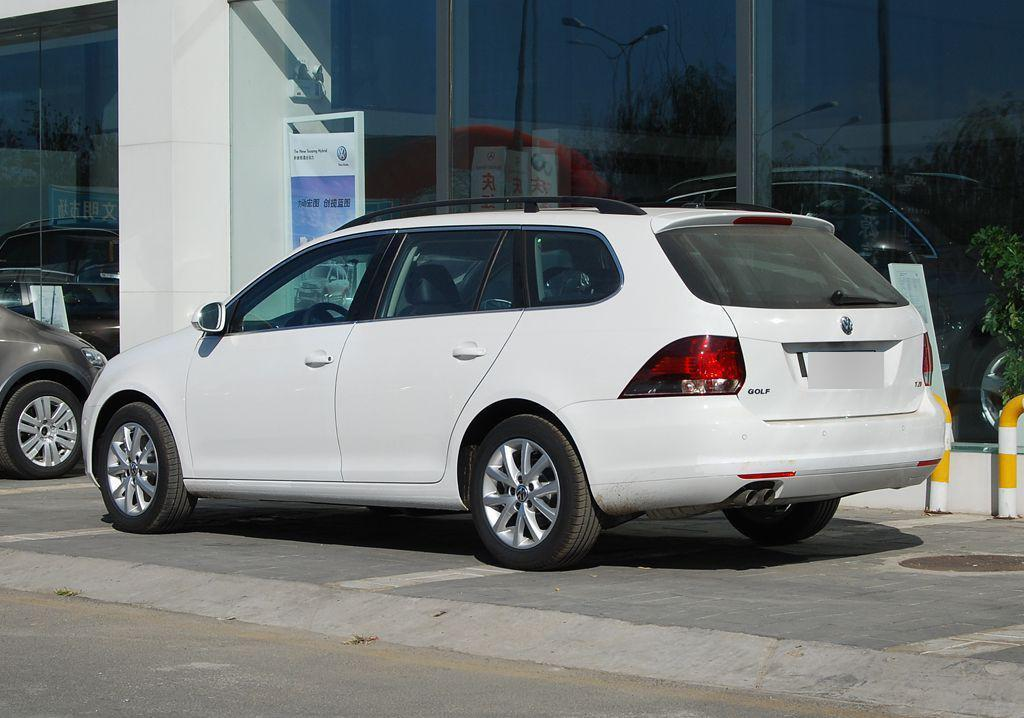Wagon: (80, 195, 948, 569)
